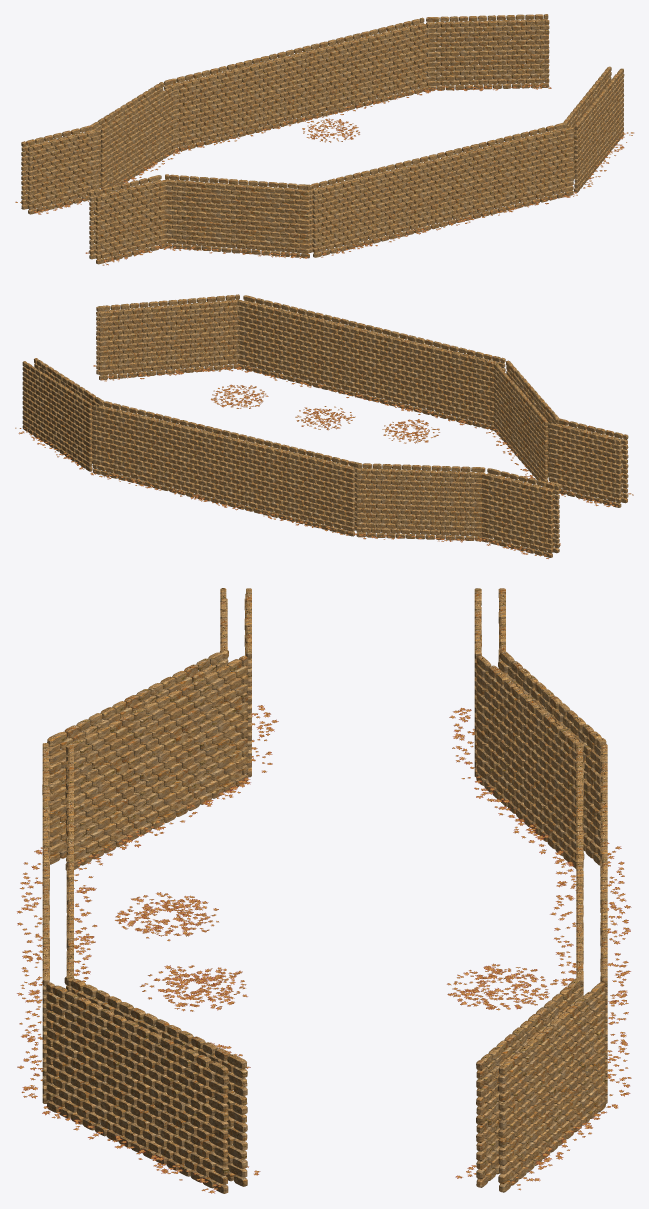
Rendered from AutumnDetailRoom03.fbx.
3 renders of one model, top to bottom at view 1: azimuth 30°, elevation 25°; view 2: azimuth 150°, elevation 25°; view 3: azimuth 270°, elevation 25°, orthographic. The views are drawn at different scales.
Visible parts, largest first — view 1: R03_AutumnStonework_LOD0, R03_AutumnLeafDrifts_LOD0; view 2: R03_AutumnStonework_LOD0, R03_AutumnLeafDrifts_LOD0; view 3: R03_AutumnStonework_LOD0, R03_AutumnLeafDrifts_LOD0.
Part boxes in pixels (x1=…): R03_AutumnStonework_LOD0: x1=21, y1=14, x2=624, y2=264; R03_AutumnLeafDrifts_LOD0: x1=15, y1=79, x2=633, y2=265; R03_AutumnStonework_LOD0: x1=22, y1=294, x2=628, y2=557; R03_AutumnLeafDrifts_LOD0: x1=15, y1=365, x2=633, y2=558; R03_AutumnStonework_LOD0: x1=42, y1=588, x2=607, y2=1193; R03_AutumnLeafDrifts_LOD0: x1=17, y1=705, x2=631, y2=1193.
Size of what is drawn, in the model's own units: 45.74 by 5.47 by 24.43.
